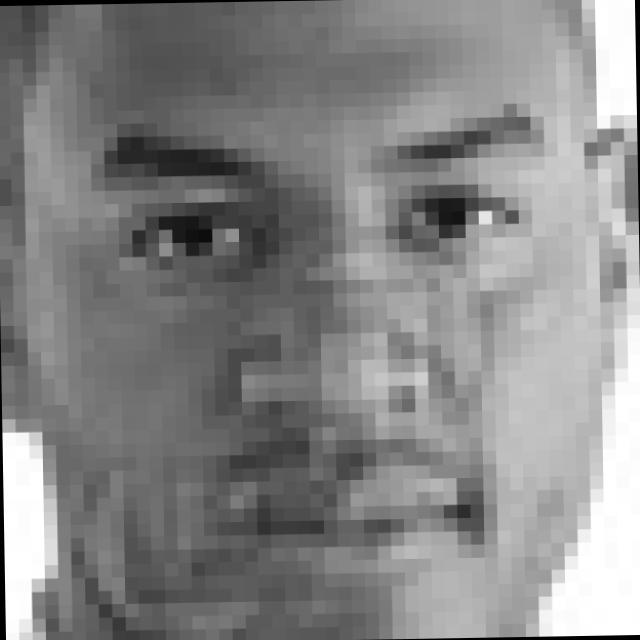neutral: (85, 94, 578, 608)
